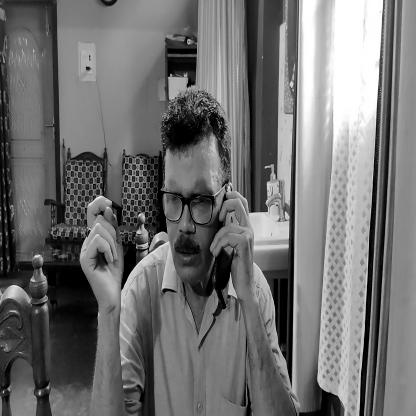Normal: (154, 88, 230, 294)
